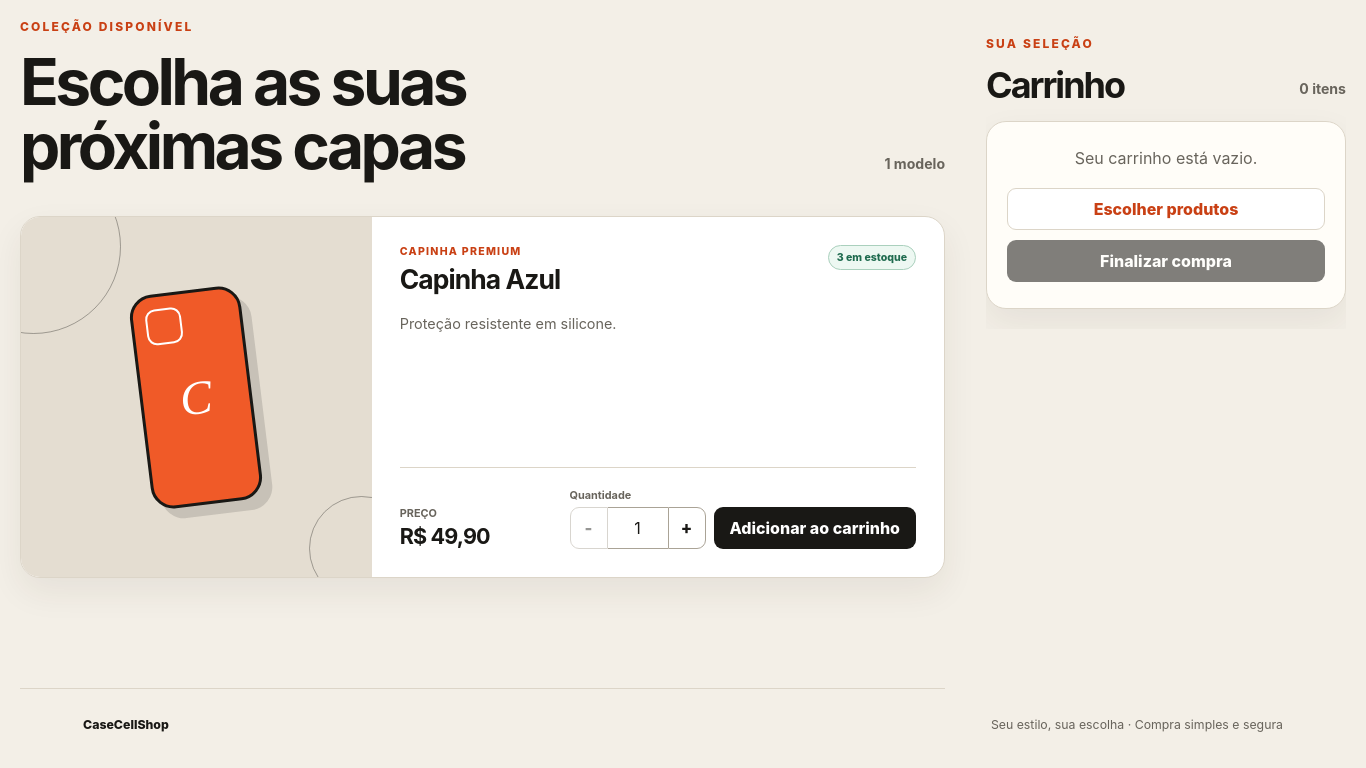
Test: vitrine CaseCellShop › preserva e destaca o item com estoque insuficiente
(page scrolled)
Replace the text in the field labelled "Quantidade" with "2" at (638, 528), box [608, 507, 668, 549]
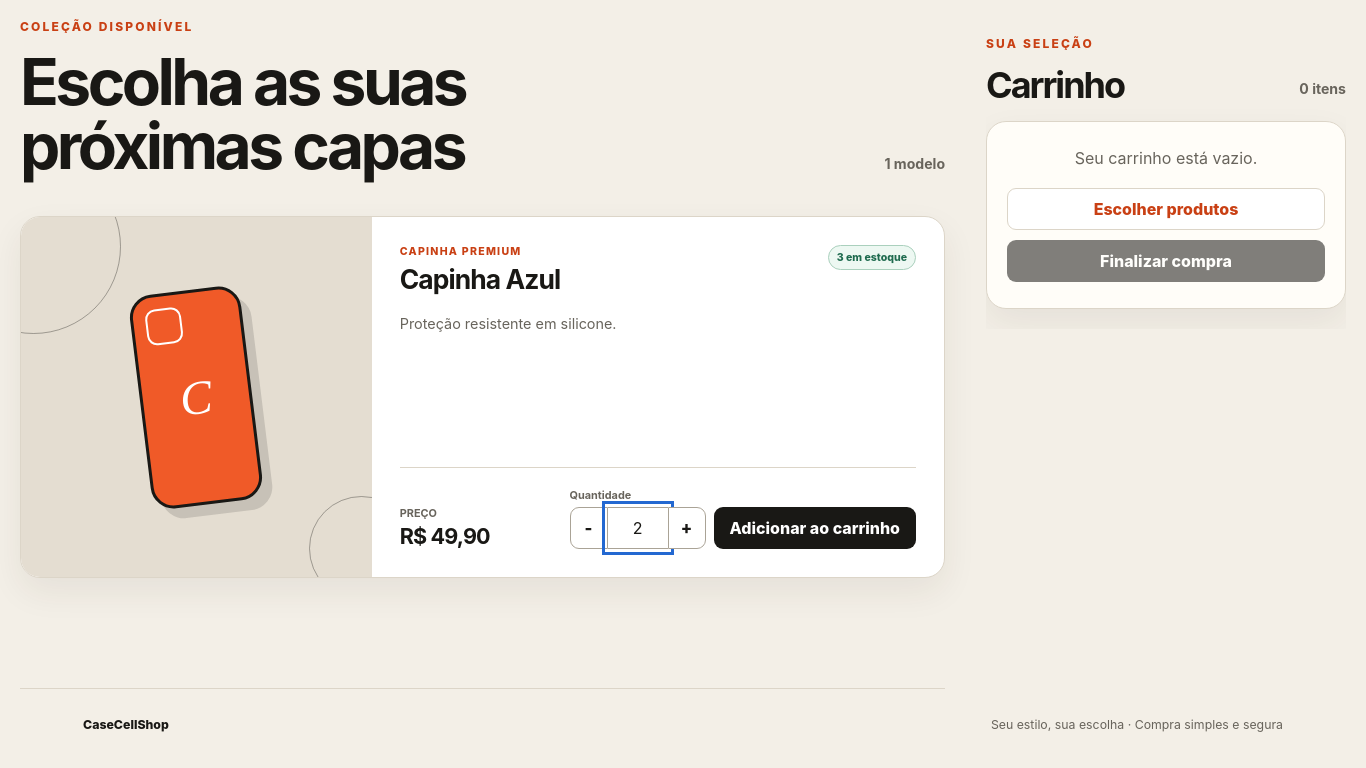
Click the button "Adicionar ao carrinho" at (815, 528), box [714, 507, 916, 549]
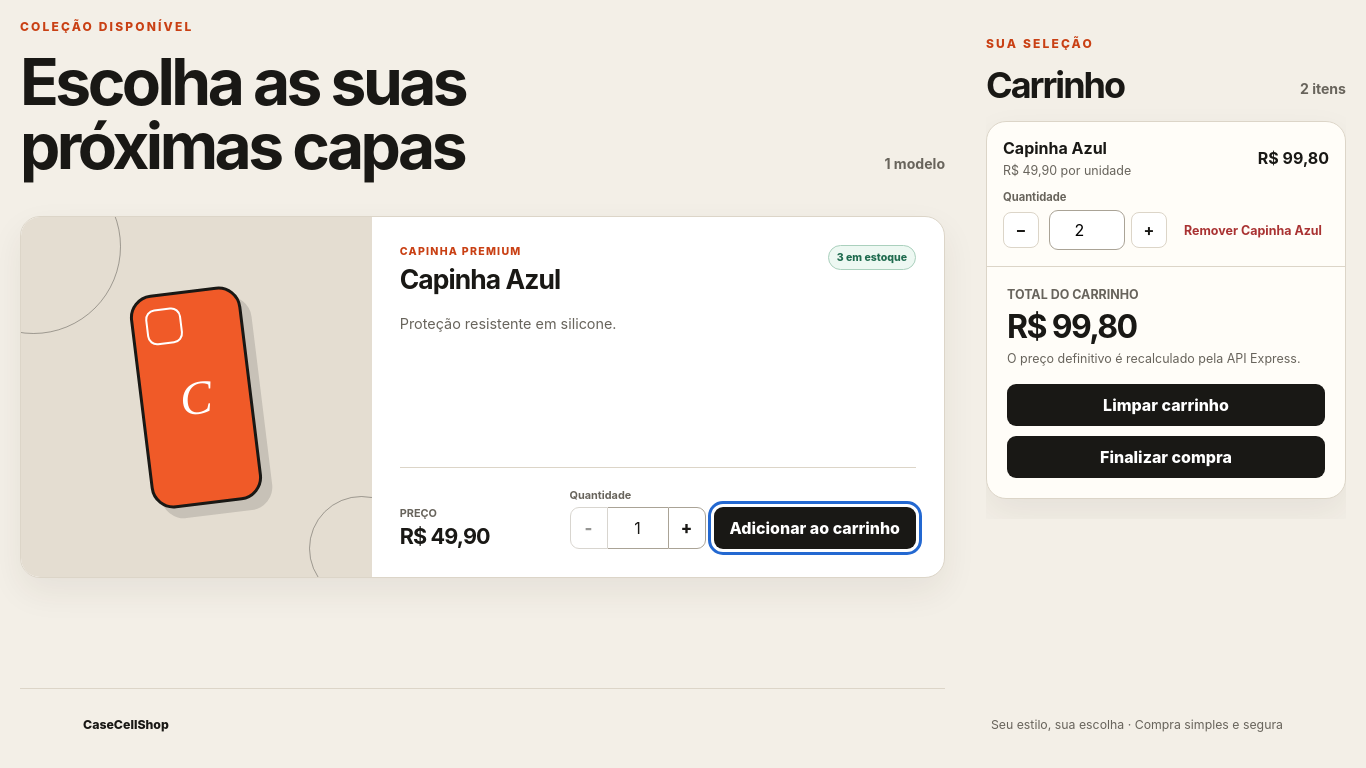
Click the button "Finalizar compra" at (1166, 457), box [1007, 436, 1325, 478]
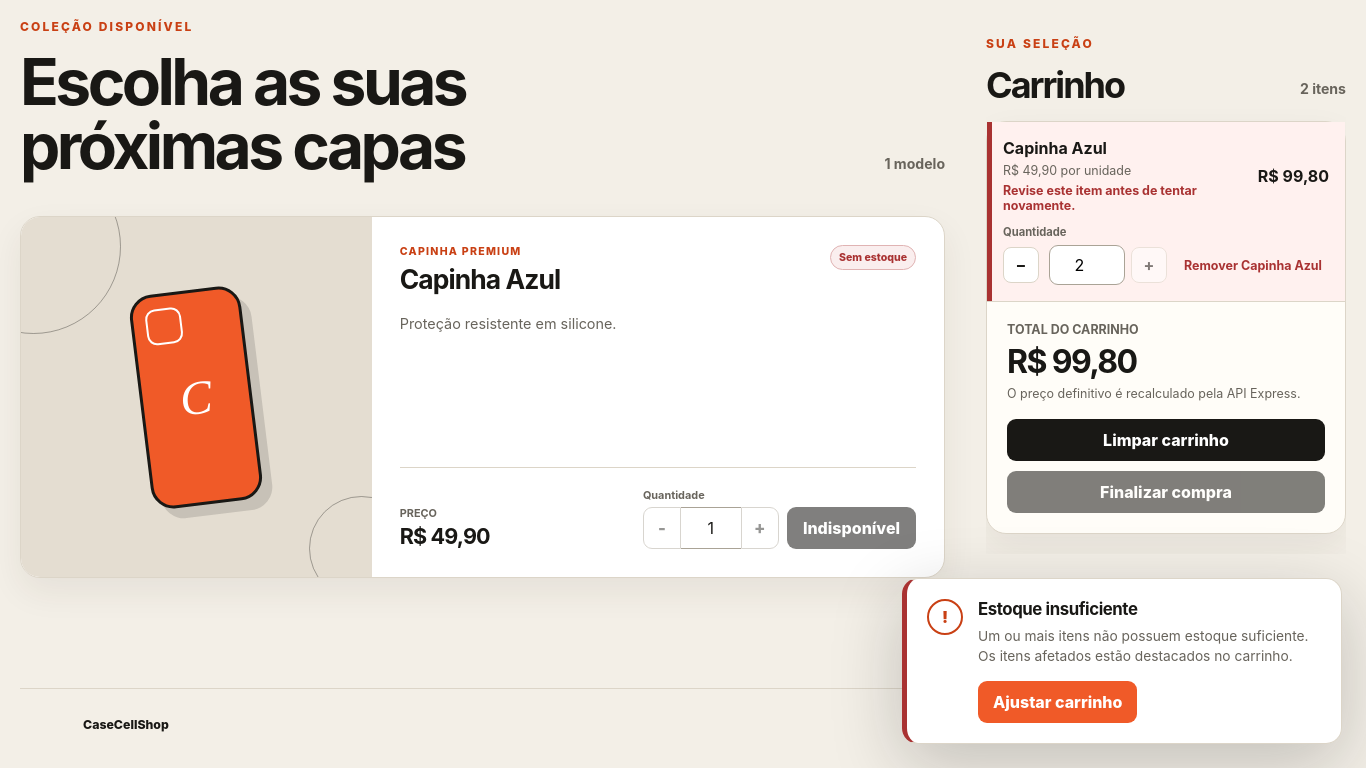
Result: the number field labelled "Quantidade" holds "2" at [1049, 245, 1125, 285]
Result: the message "Estoque insuficiente" is shown at [902, 578, 1342, 744]
Result: the message "Estoque insuficiente" shows "itens afetados estão destacados" at [978, 648, 1293, 664]
